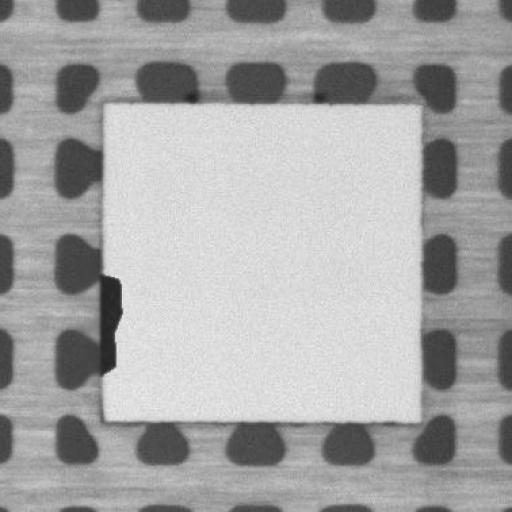DIE_BROKEN: (95, 264, 124, 381)
